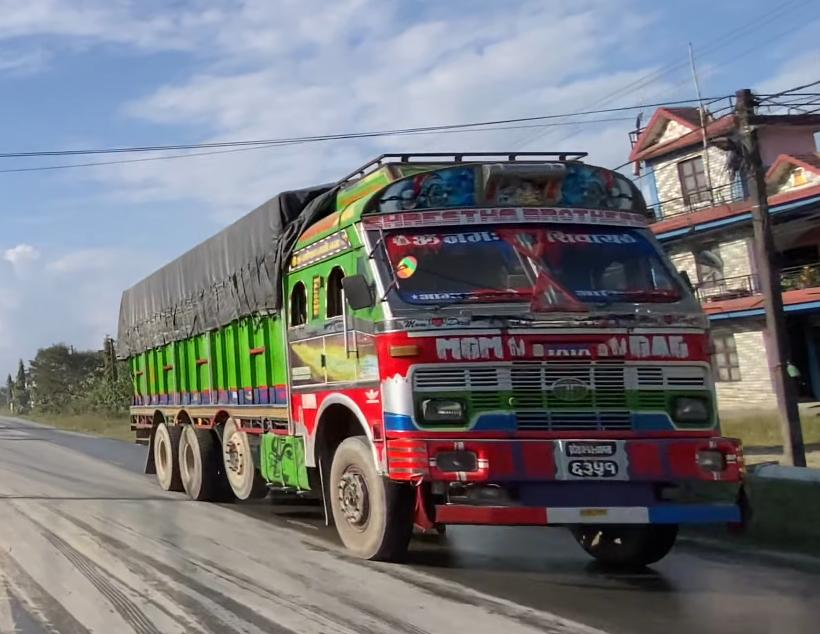truck: (110, 149, 752, 567)
